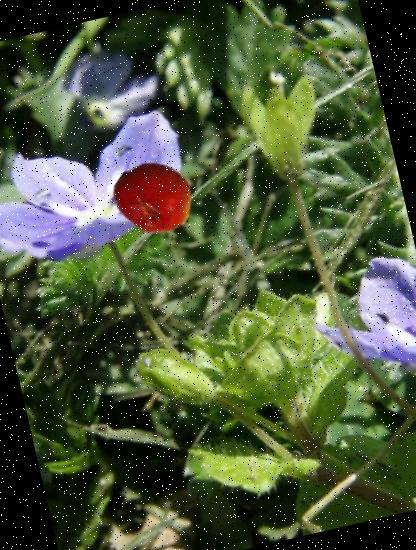Nectarine: (106, 149, 202, 245)
